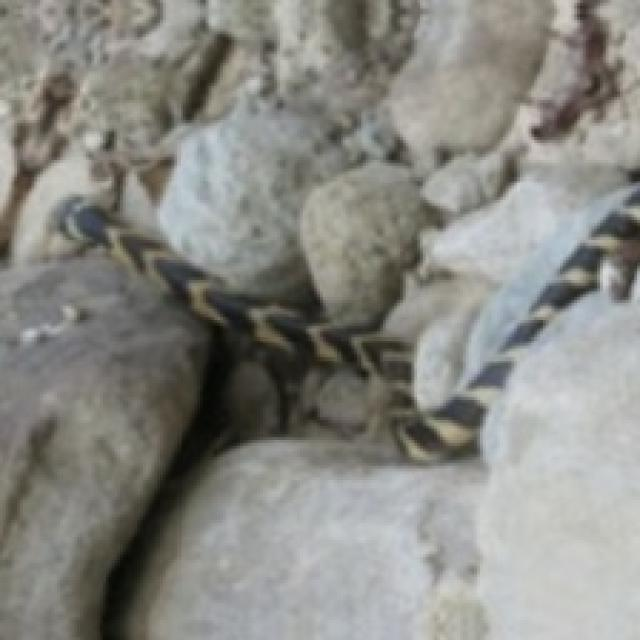king cobra: (269, 166, 637, 460)
